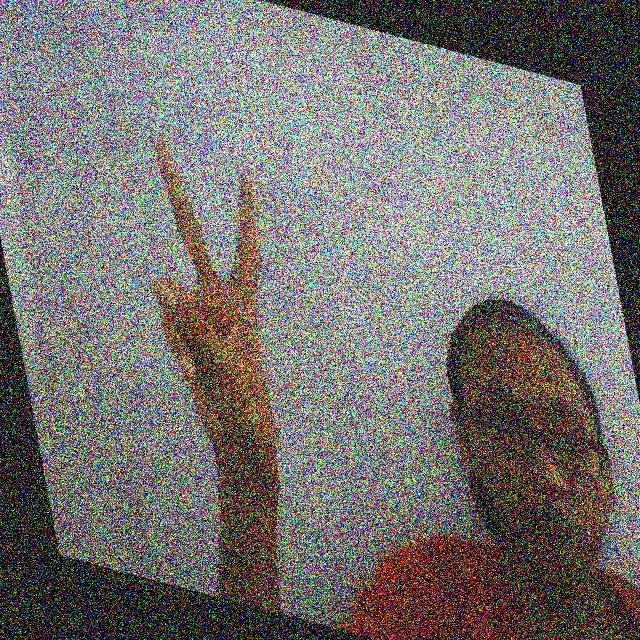V: (122, 126, 298, 464)
